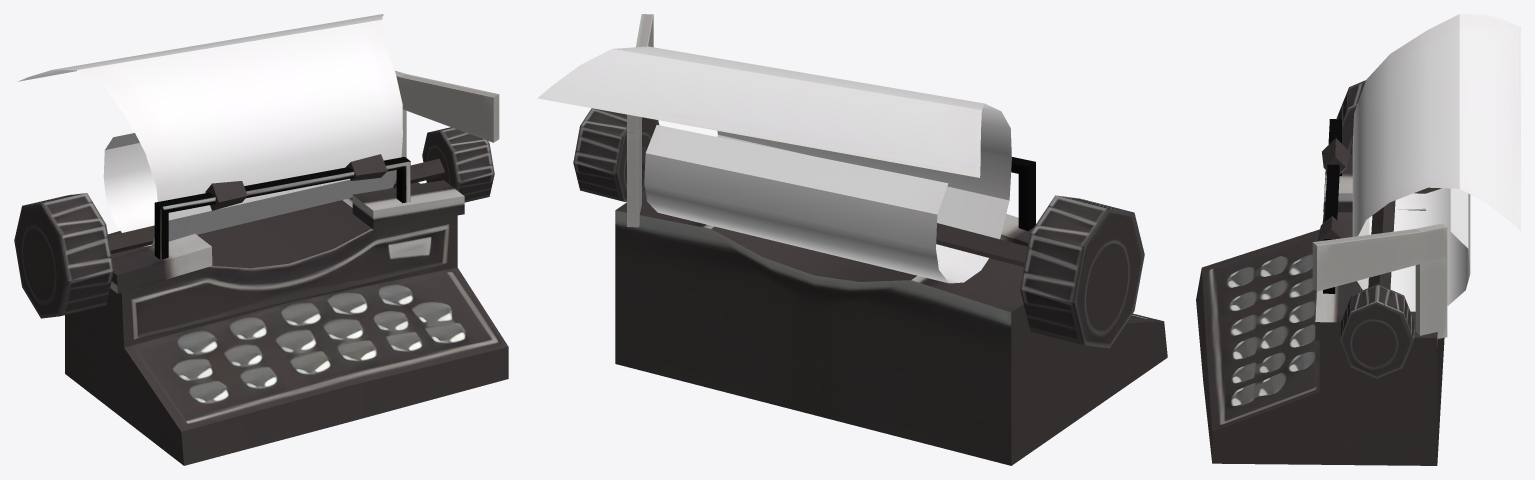
File: Typewriter.fbx
3 renders of one model, left to right at view 1: azimuth 30°, elevation 25°; view 2: azimuth 150°, elevation 25°; view 3: azimuth 270°, elevation 25°, orthographic. The views are drawn at different scales.
Visible parts, largest first — view 1: Typewriter; view 2: Typewriter; view 3: Typewriter.
Part boxes in pixels (x1,y1,x2,y2): Typewriter: (14,14,508,465); Typewriter: (537,14,1167,465); Typewriter: (1196,14,1520,465).
Size of the model in its own units: 108 by 70.24 by 69.6.
